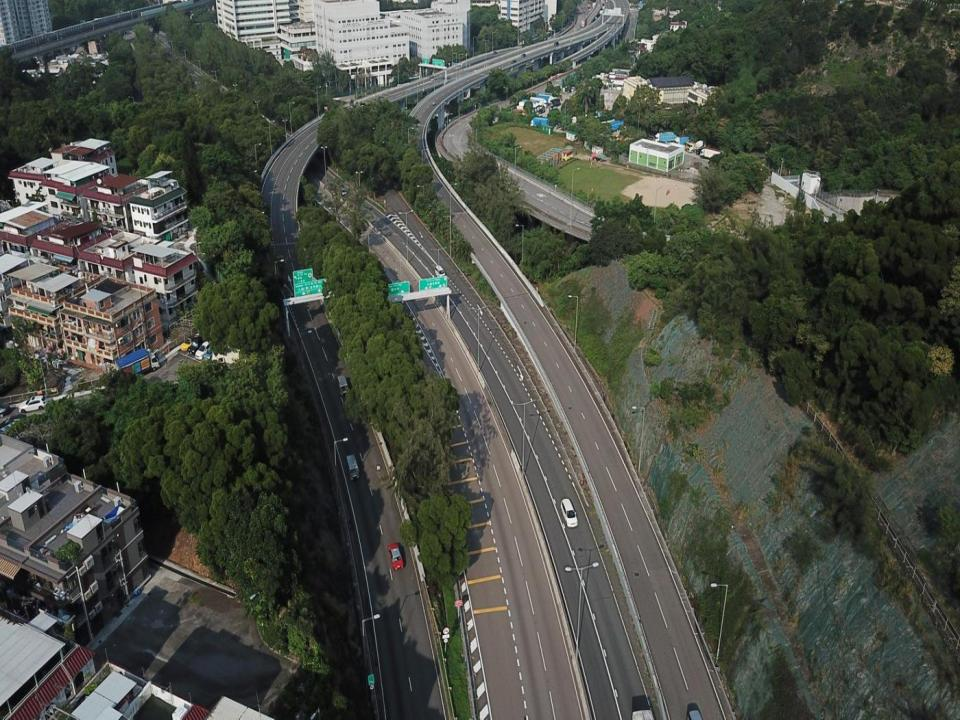bus: (683, 140, 697, 152)
car: (17, 394, 48, 413), (386, 542, 404, 571), (194, 340, 211, 361), (203, 345, 220, 362), (180, 336, 196, 352), (340, 188, 347, 196), (553, 40, 560, 47), (511, 58, 517, 66), (492, 50, 498, 56), (520, 53, 526, 58)
truck: (114, 347, 160, 384), (700, 146, 724, 163), (529, 117, 550, 131), (653, 131, 675, 144), (675, 133, 694, 148), (605, 119, 624, 133), (686, 140, 706, 153)
van: (560, 497, 578, 528), (344, 453, 360, 481), (188, 336, 206, 356), (335, 373, 349, 395), (434, 264, 446, 280)
